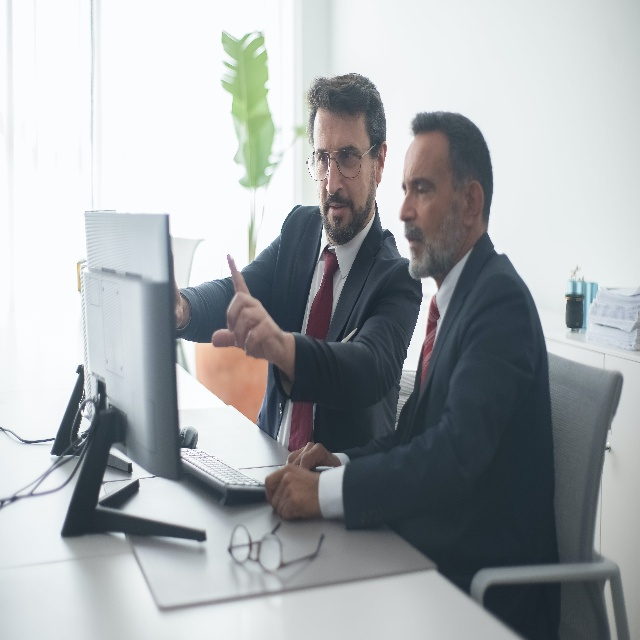Gafas: (227, 521, 325, 573), (306, 141, 379, 182)
Sin_guantes: (211, 252, 284, 366), (264, 465, 322, 520), (287, 441, 342, 471)
